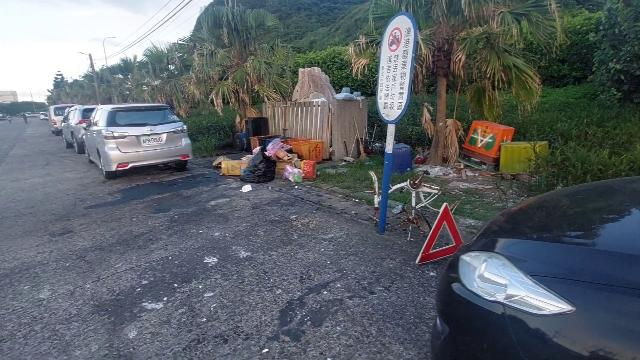pollute: (212, 134, 324, 183), (459, 121, 551, 172), (391, 180, 452, 239), (393, 142, 416, 173), (368, 169, 378, 221)
